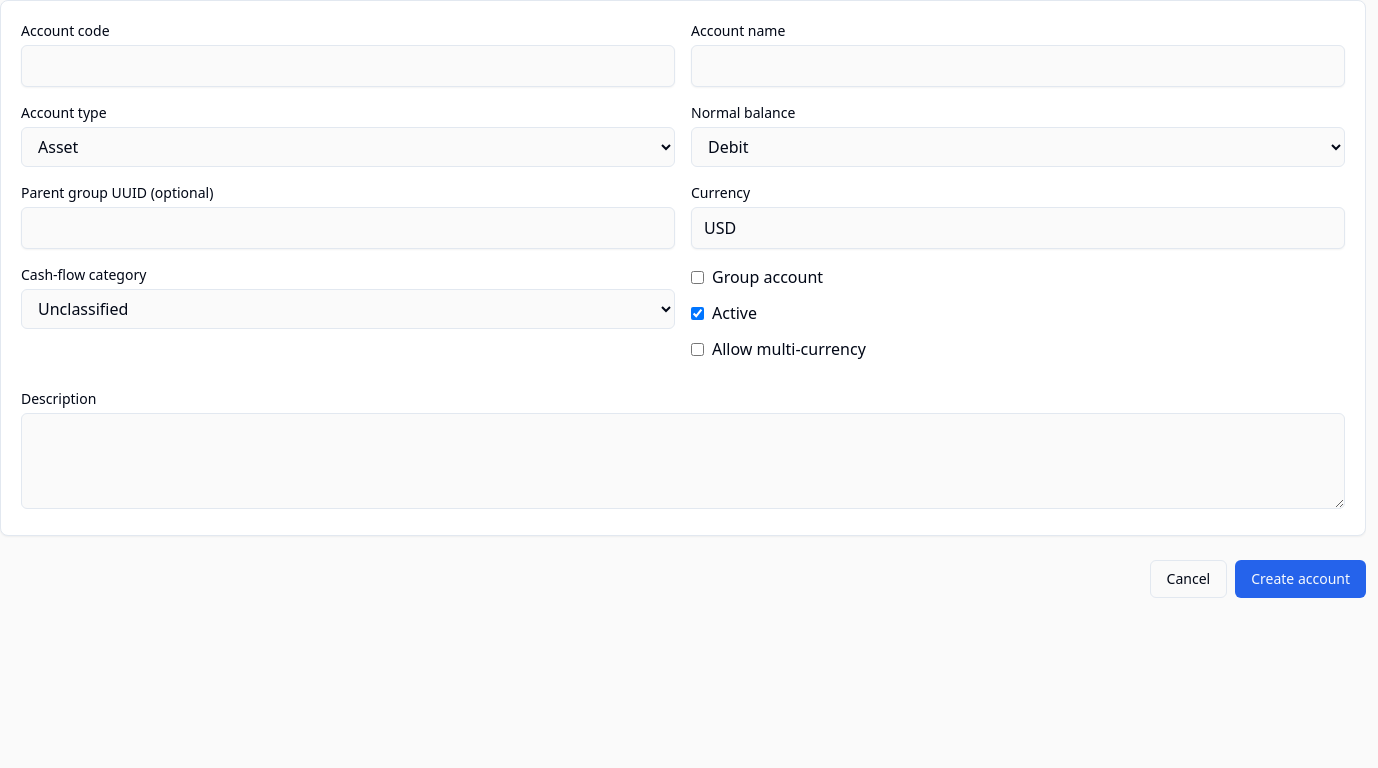
Test case: accounting aggregate forms › shows governed account validation when the submit button is clicked empty
This screenshot has width=1378, height=768.
What coordinates should you click on to do the following:
click the button "Create account"
I would click on:
 (1301, 579)
Its box is 1235,560 -> 1366,598.
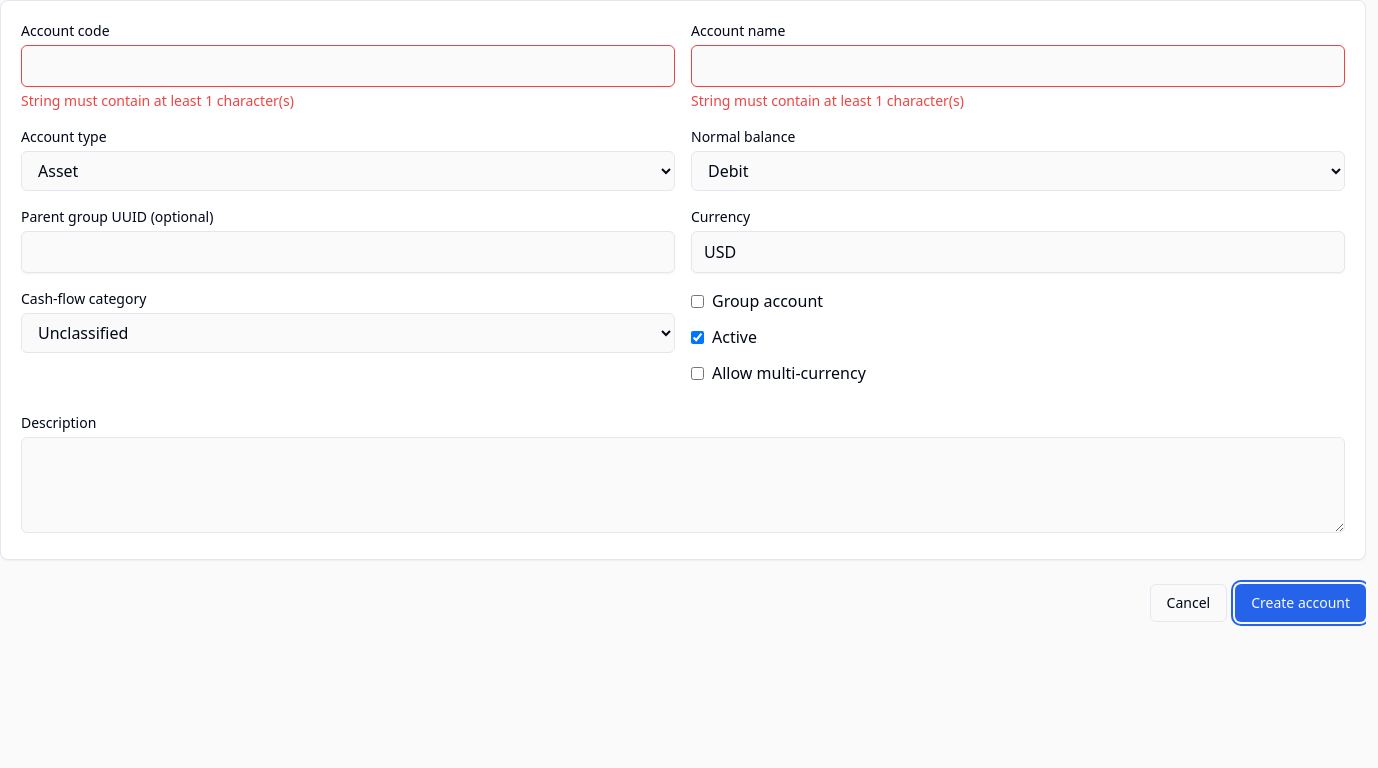
expect the text "String must contain at least 1 character(s)" is shown 2 times: met, box 21,91 -> 294,110; 691,91 -> 964,110
